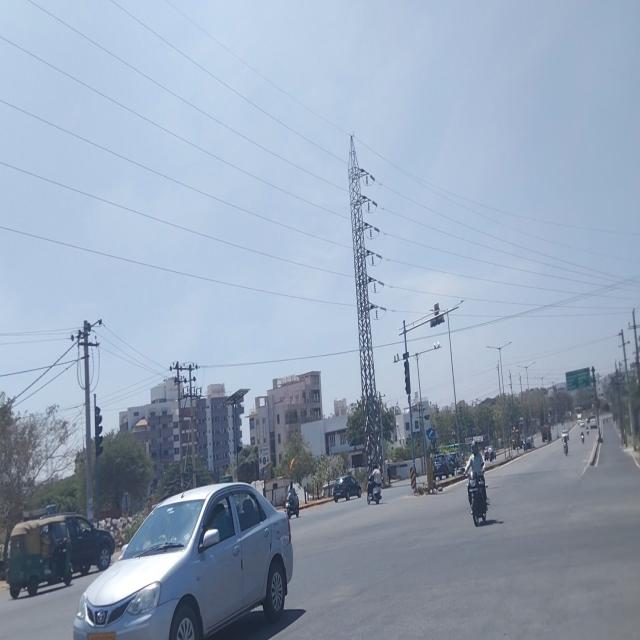bien_cam: (426, 427, 435, 441), (450, 426, 456, 436)
